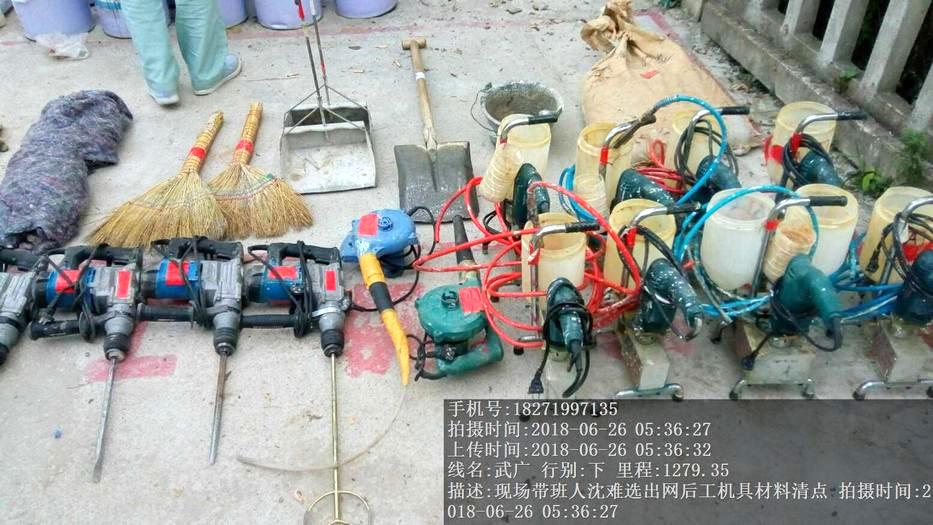DZ: (36, 236, 155, 425), (151, 236, 258, 423), (254, 234, 339, 420)
GFJ: (346, 202, 424, 386), (429, 224, 510, 375)
SB: (98, 111, 220, 241), (226, 114, 299, 233)
SNT: (468, 79, 575, 125)
TQ: (382, 36, 479, 222)
